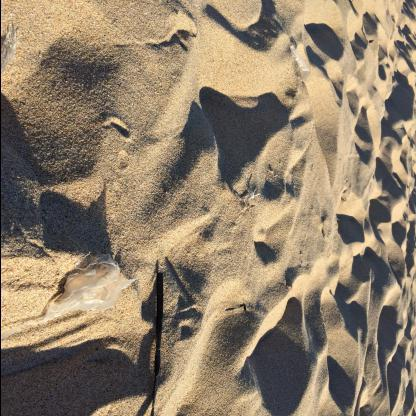plastik: (41, 255, 137, 323)
